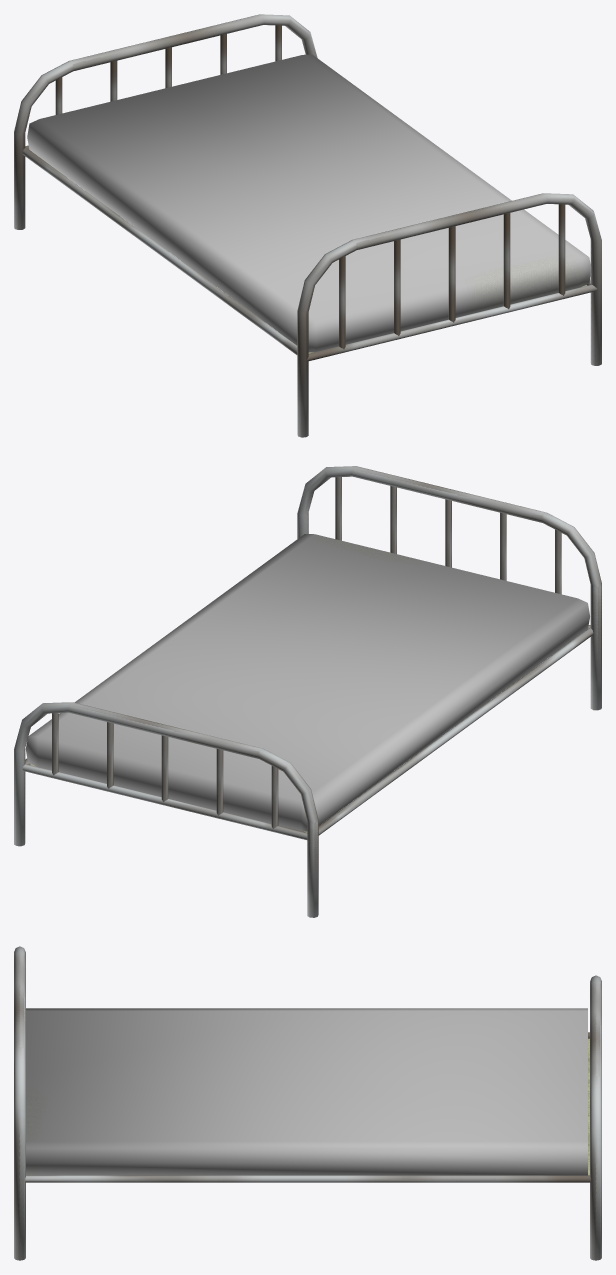
File: bed_cpl.FBX
3 renders of one model, top to bottom at view 1: azimuth 30°, elevation 25°; view 2: azimuth 150°, elevation 25°; view 3: azimuth 270°, elevation 25°, orthographic.
Visible parts, largest first — view 1: Object004; view 2: Object004; view 3: Object004.
Boxes of the visible parts, x1=… form: Object004: x1=14, y1=14, x2=601, y2=437; Object004: x1=14, y1=466, x2=601, y2=917; Object004: x1=14, y1=946, x2=601, y2=1260.
Size of the model in its own units: 219 by 126 by 362.
1 material, 1 textured.
